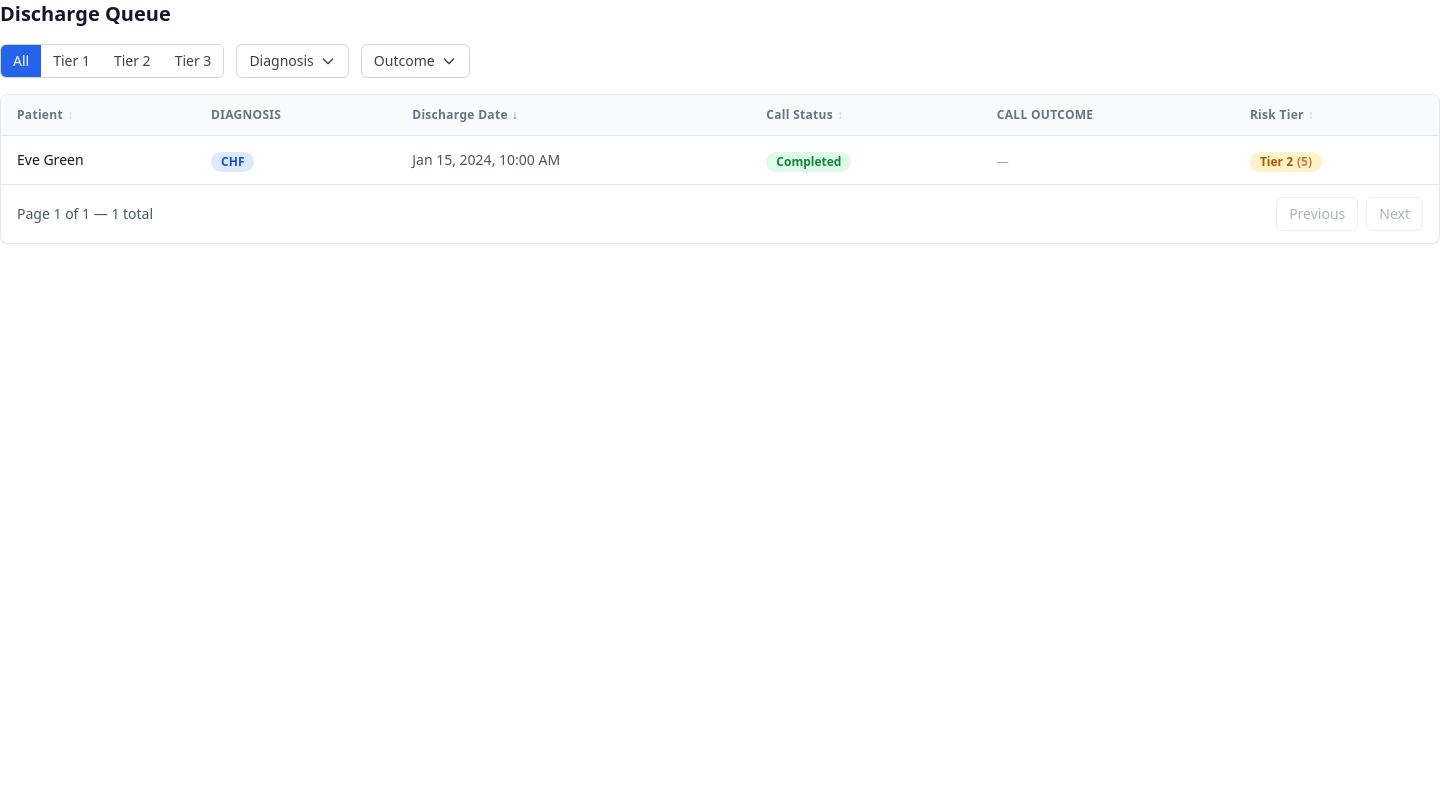
18.9 – Slide-out drawer keyboard behavior › Escape key closes the drawer
Expected: the text "Eve Green" is shown, [1,136,195,184]
Click the text "Eve Green": (50, 160) [1,136,1439,184]
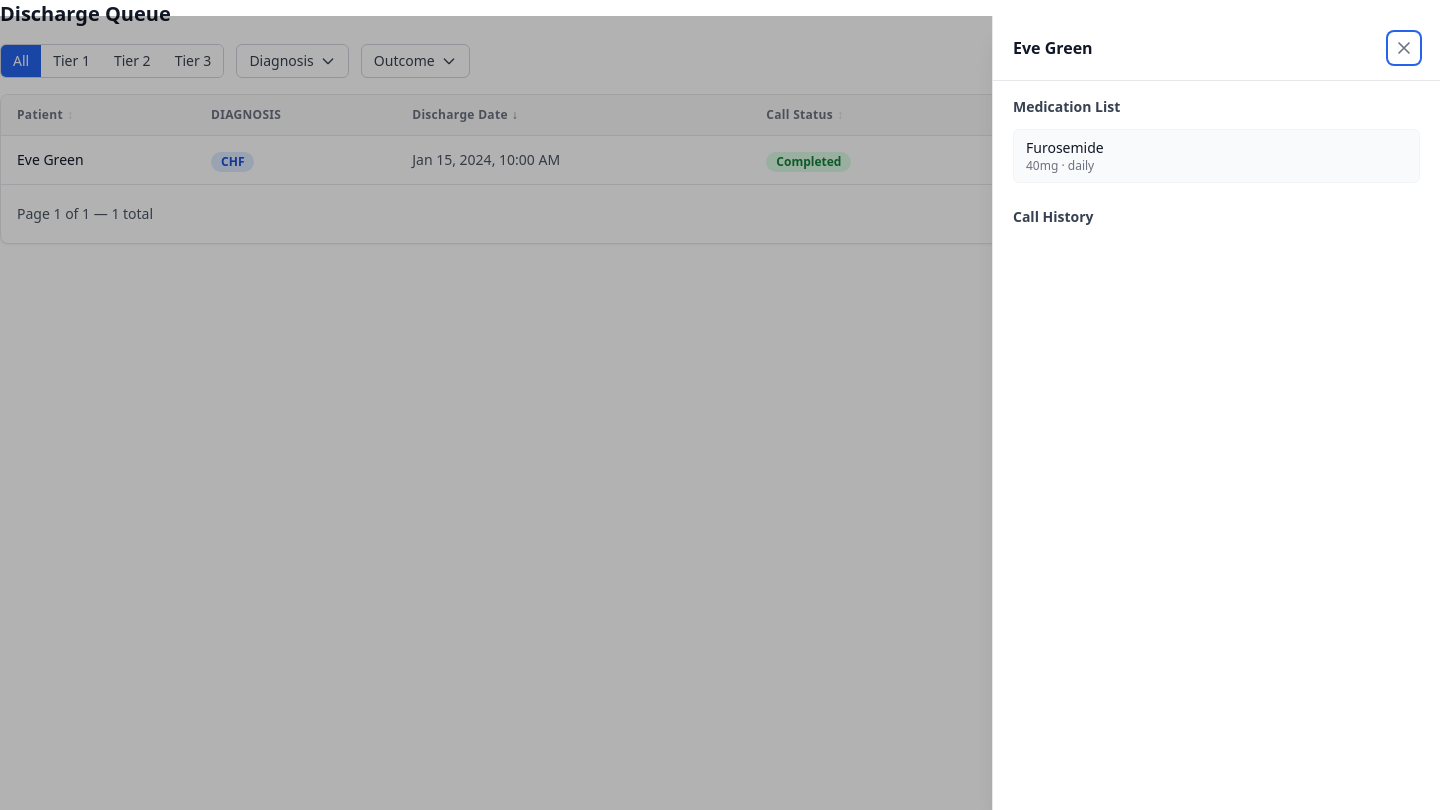
Expected: the dialog is shown, [992,16,1439,809]
Press Escape
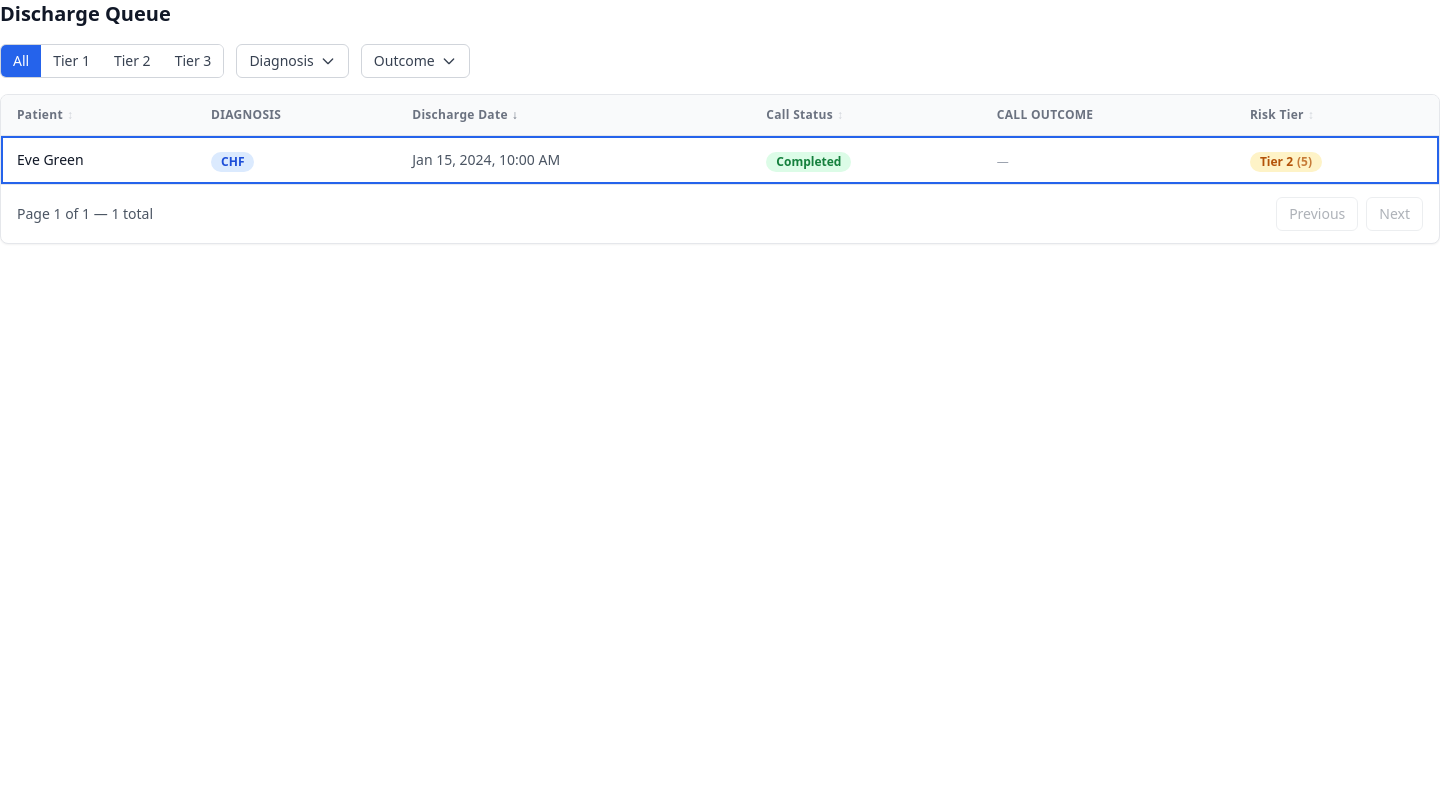
Expected: the dialog is gone
